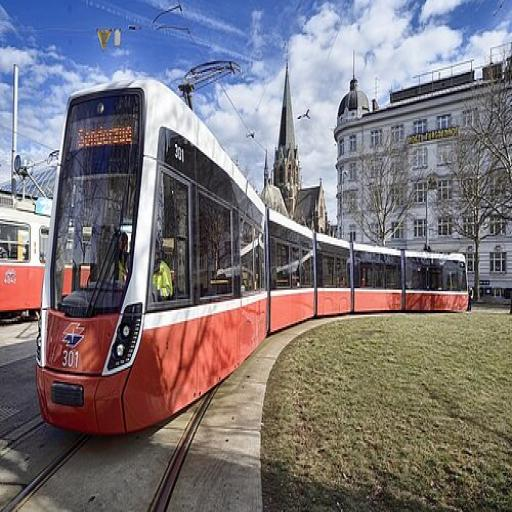Flexity: (36, 81, 470, 442)
